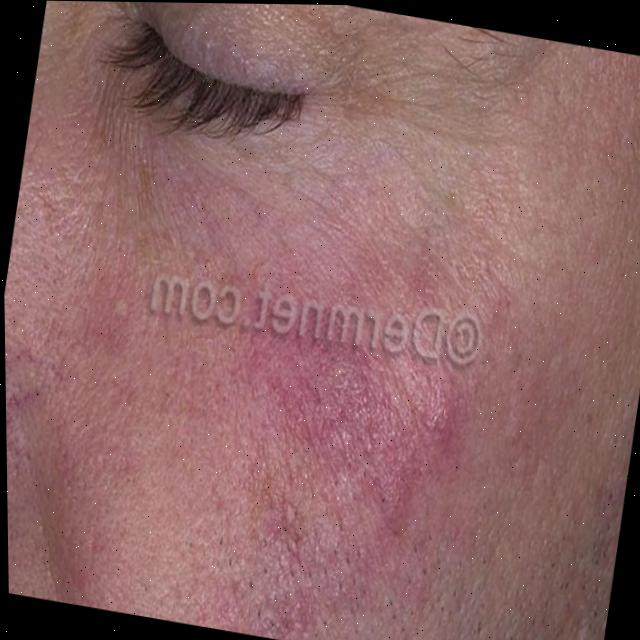Rosacea: (200, 166, 528, 507)
